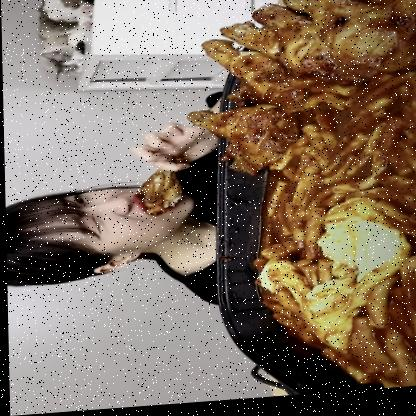streamer: (2, 96, 224, 320)
